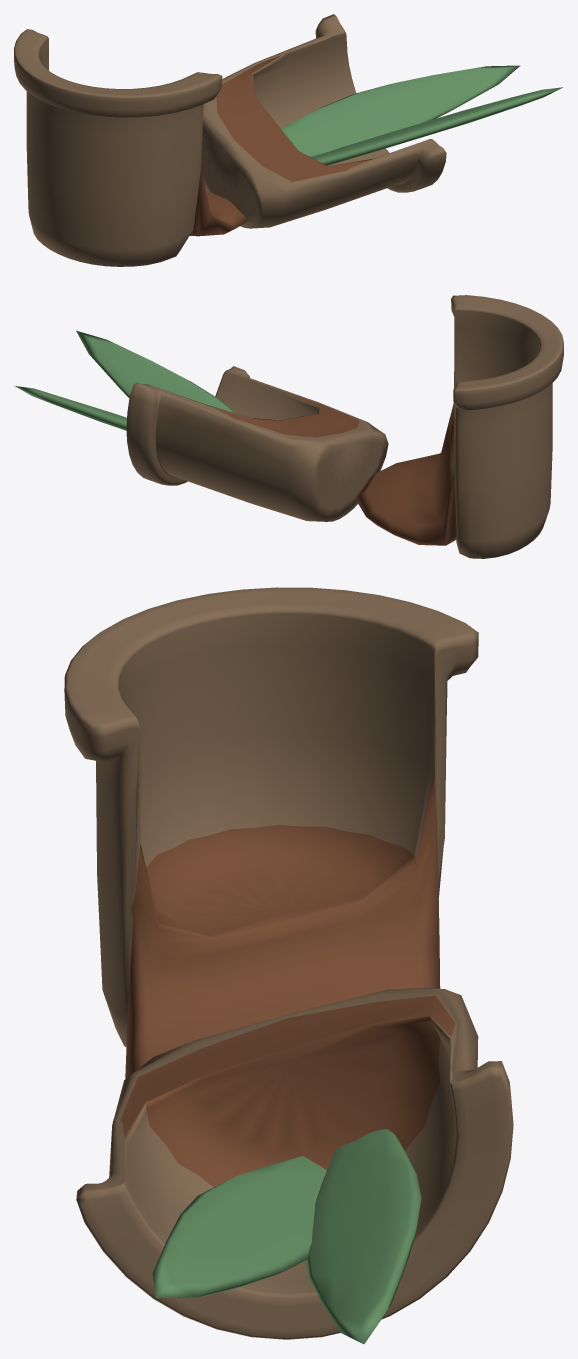
File: cracked_in_half_ plant_ pot.fbx
3 renders of one model, top to bottom at view 1: azimuth 30°, elevation 25°; view 2: azimuth 150°, elevation 25°; view 3: azimuth 270°, elevation 25°, orthographic. The views are drawn at different scales.
Visible parts, largest first — view 1: pCylinder2, pCylinder1, pCube1, pCube2; view 2: pCylinder2, pCylinder1, pCube2, pCube1; view 3: pCylinder2, pCylinder1, pCube1, pCube2.
Part boxes in pixels (x1,y1,x2,y2): pCylinder2: (14, 29, 249, 266); pCylinder1: (201, 14, 446, 228); pCube1: (280, 65, 520, 157); pCube2: (311, 87, 562, 165); pCylinder2: (355, 295, 563, 558); pCylinder1: (126, 366, 388, 521); pCube2: (76, 330, 235, 413); pCube1: (14, 385, 126, 430); pCylinder2: (64, 587, 478, 1078); pCylinder1: (76, 987, 513, 1339); pCube1: (305, 1129, 421, 1343); pCube2: (152, 1156, 326, 1298).
Bounding box in the file's own units: 6.02 × 2.26 × 2.3.
